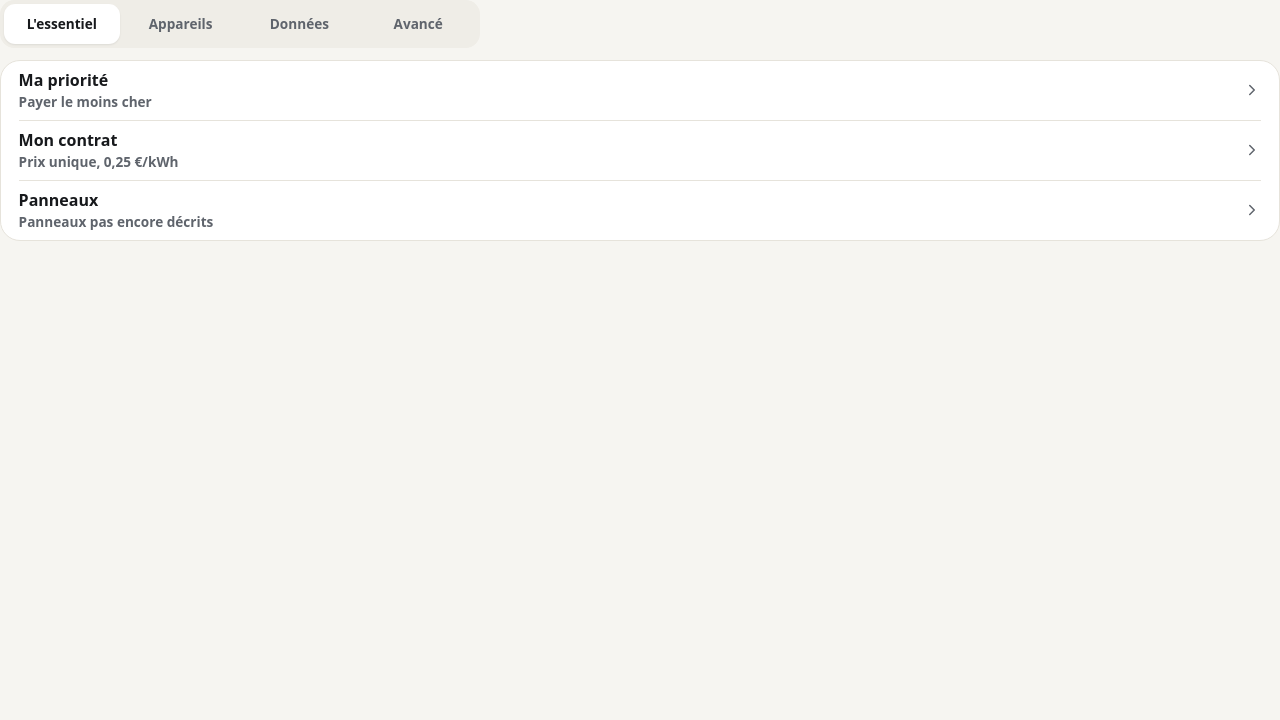
Scenario: réglages de Ma maison › signale un tableau Énergie sans prix ou un Home Assistant absent
The image size is (1280, 720).
Click the tab "L'essentiel" at (62, 24), box 4,4 -> 120,44
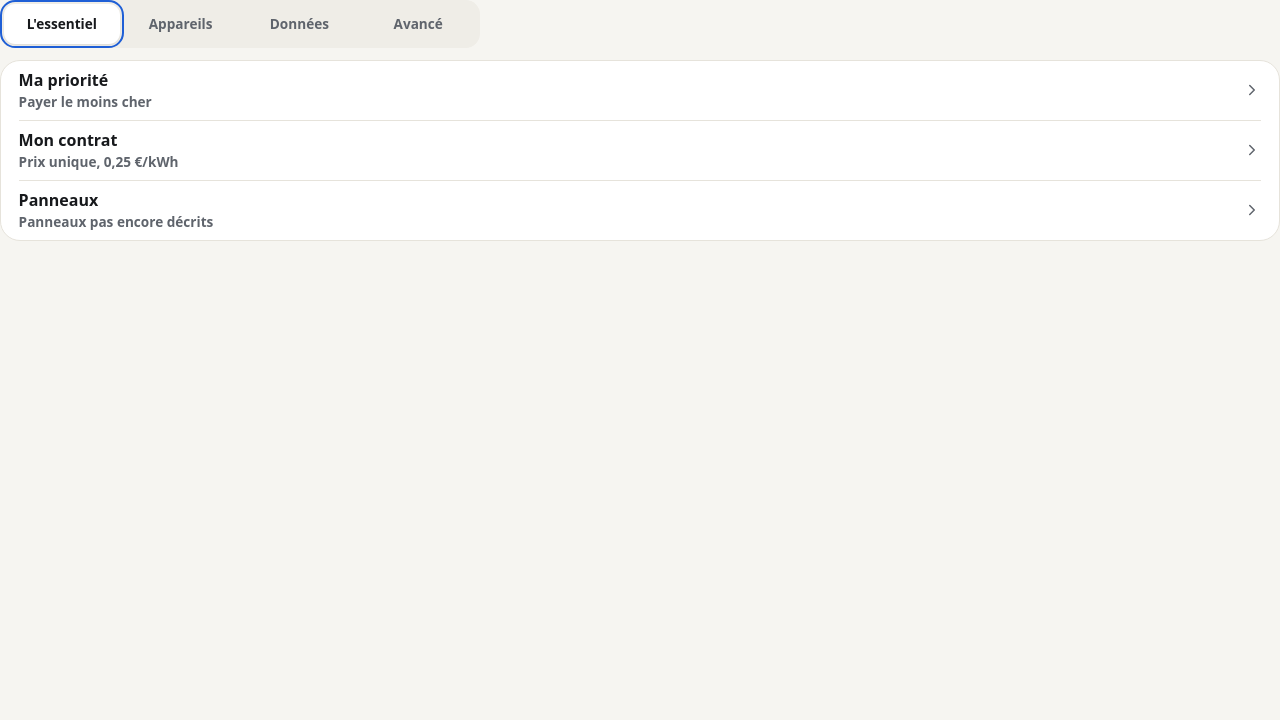
Click the button "Mon contrat Prix unique, 0,25 €/kWh" at (68, 140), box 19,121 -> 1261,181
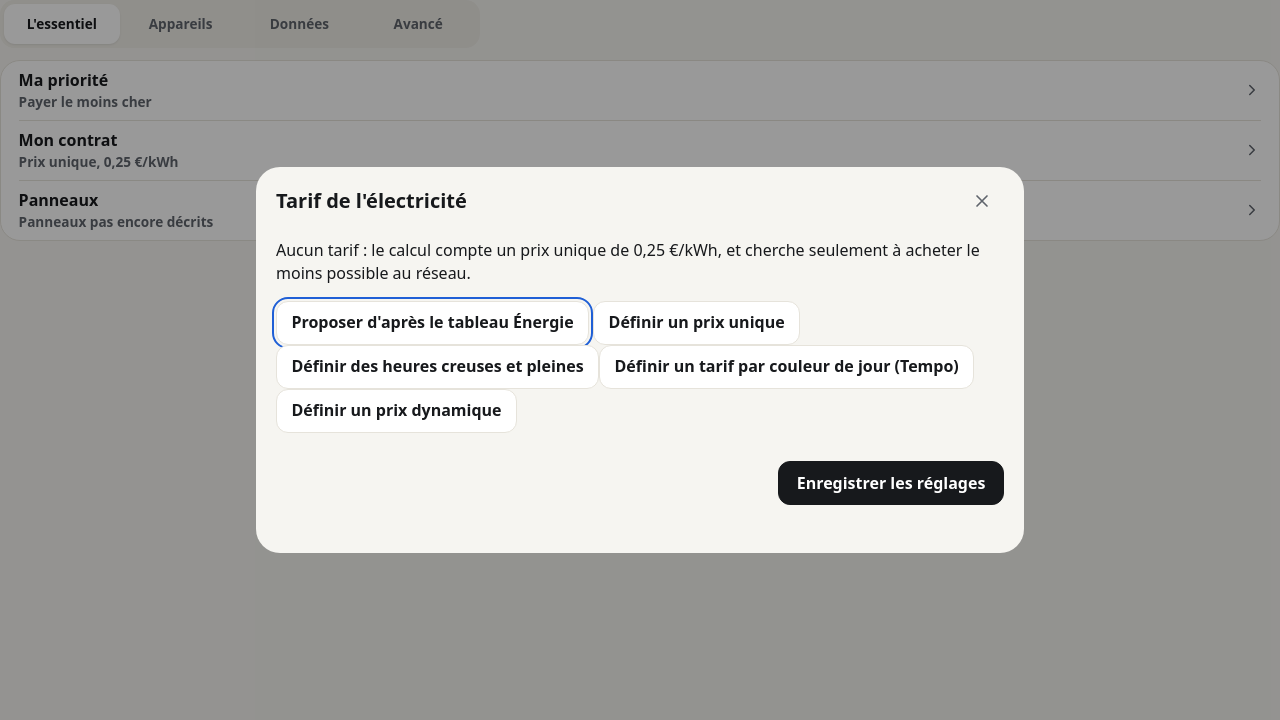
Click the button "Proposer d'après le tableau Énergie" at (432, 323), box 276,301 -> 589,345
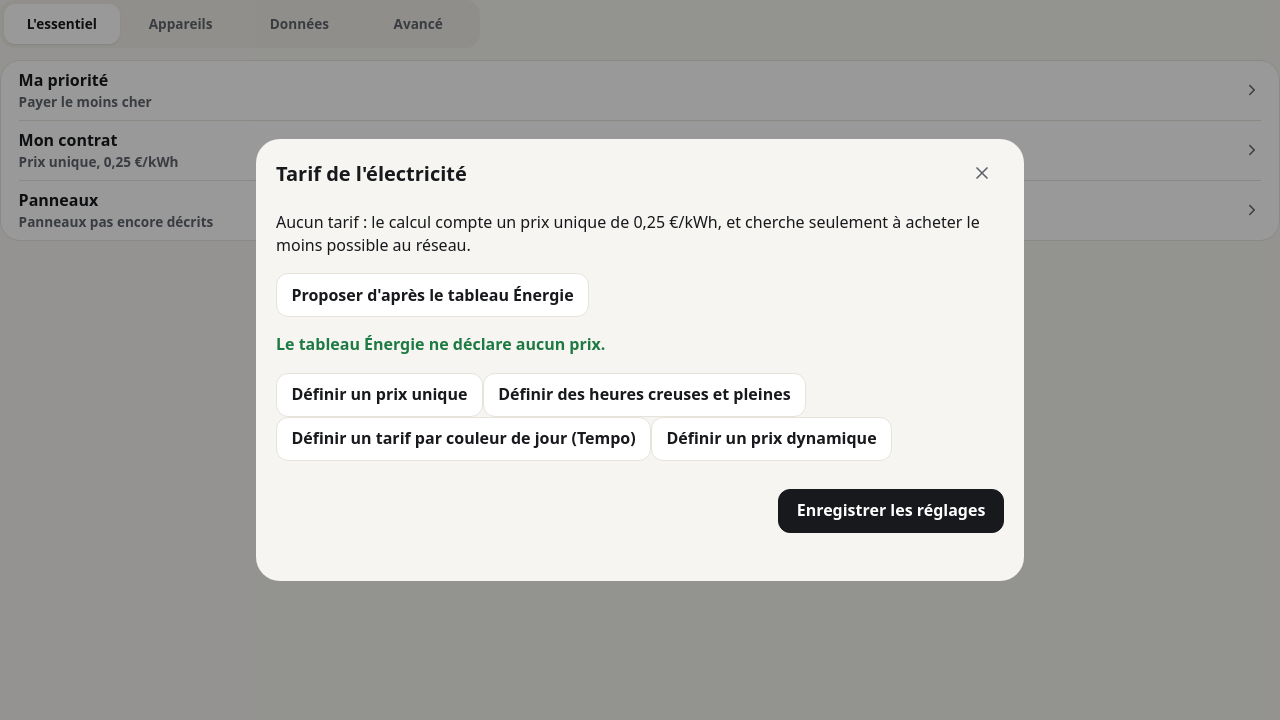
Check: the message shows "ne déclare aucun prix", box 276,333 -> 605,355
Click the button "Proposer d'après le tableau Énergie" at (432, 295), box 276,273 -> 589,317
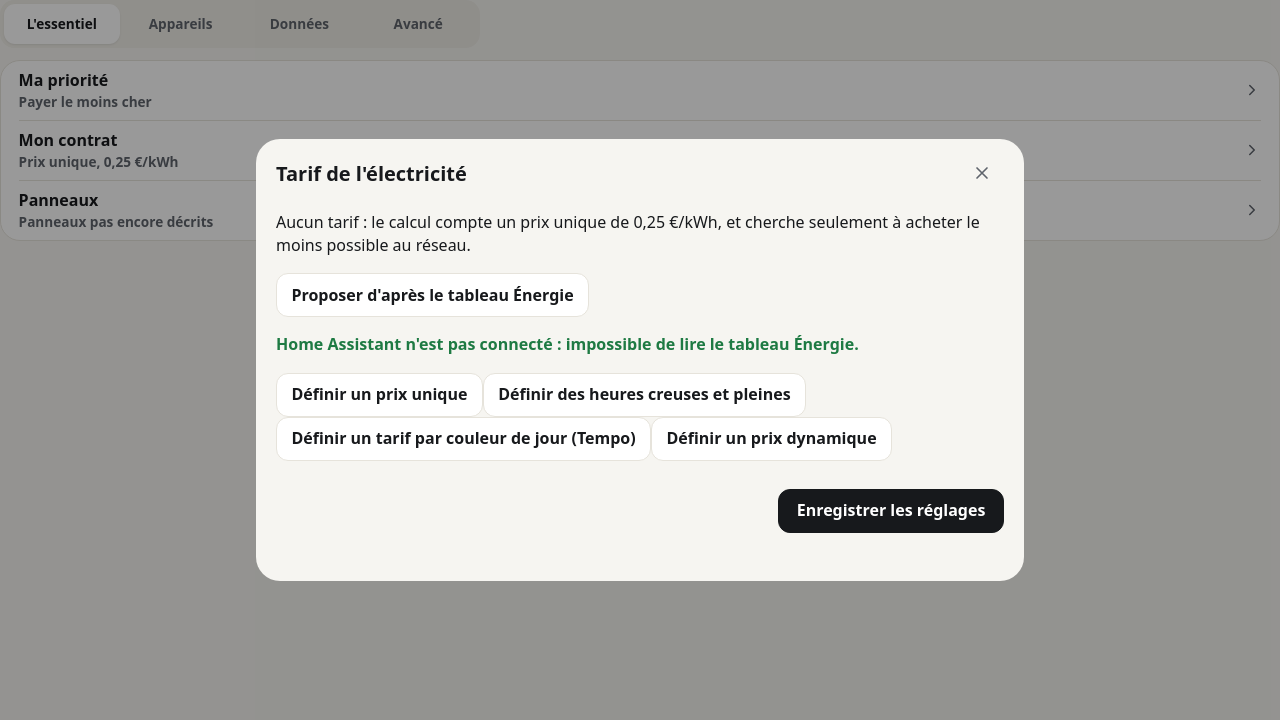
Check: the text "Home Assistant n'est pas connecté : impossible de lire le tableau Énergie." is shown, box 276,333 -> 859,355
